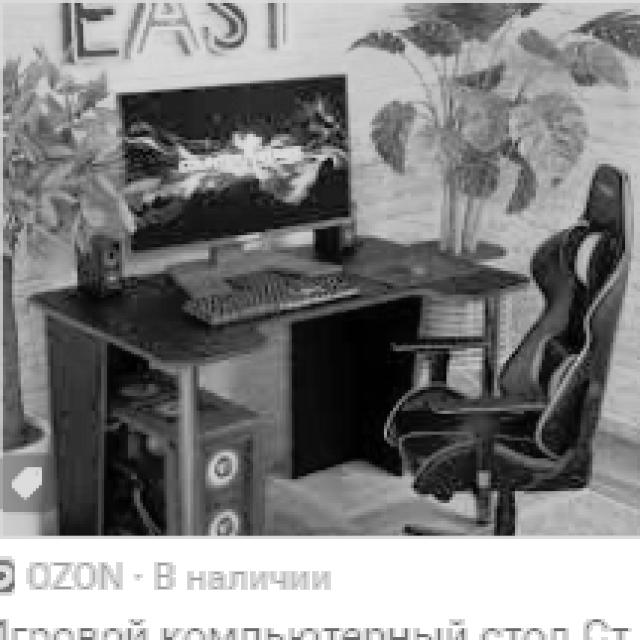book: (381, 161, 634, 533)
table: (27, 232, 530, 533)
